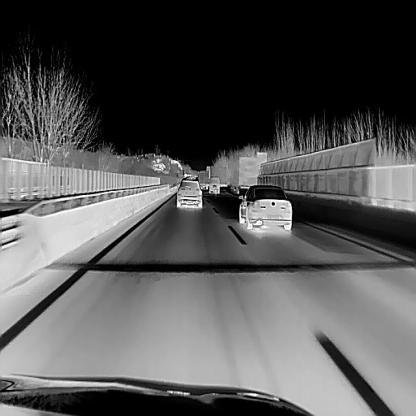car: (237, 184, 291, 228), (176, 177, 202, 208), (208, 174, 219, 192)
truck: (196, 169, 209, 189)
